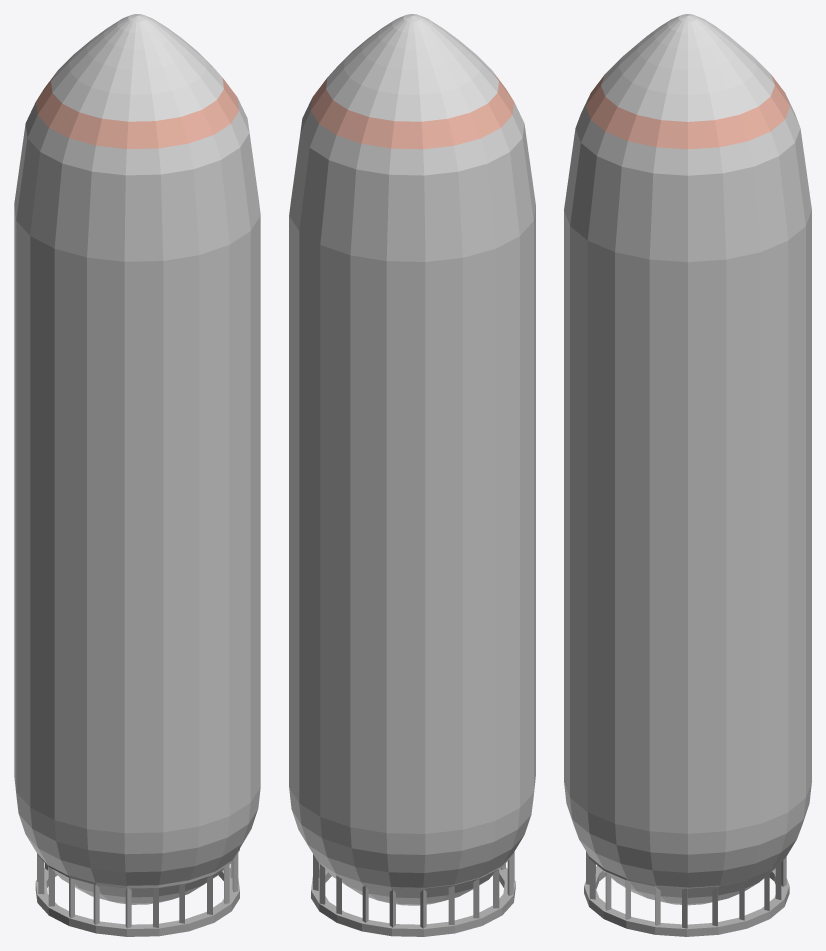
Rendered from roket1.fbx.
3 views of the same model, side by side, from view 1: azimuth 30°, elevation 25°; view 2: azimuth 150°, elevation 25°; view 3: azimuth 270°, elevation 25° (orthographic).
Visible parts, largest first — view 1: Null_1; view 2: Null_1; view 3: Null_1.
Part boxes in pixels (left/top/right/bottom): Null_1: left=14, top=14, right=260, bottom=936; Null_1: left=289, top=14, right=535, bottom=936; Null_1: left=564, top=14, right=811, bottom=936.
Size of the model in its own units: 272 by 1063 by 272.
